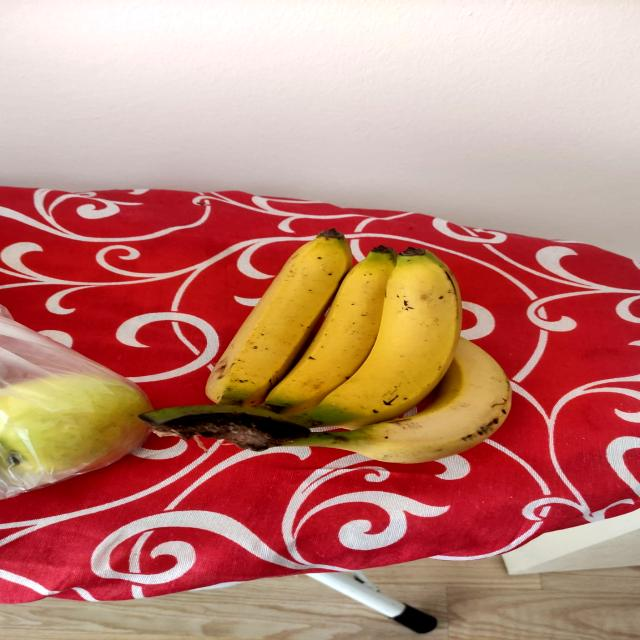banana: (133, 223, 535, 470)
